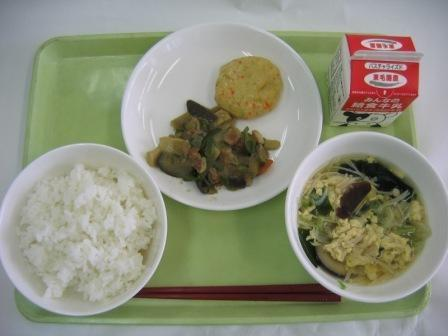Milk: (316, 28, 434, 131)
Rice: (2, 149, 160, 307)
Soups: (292, 138, 442, 296)
cutlet: (213, 47, 290, 120)
vegetable based cooked food: (144, 112, 272, 202)
